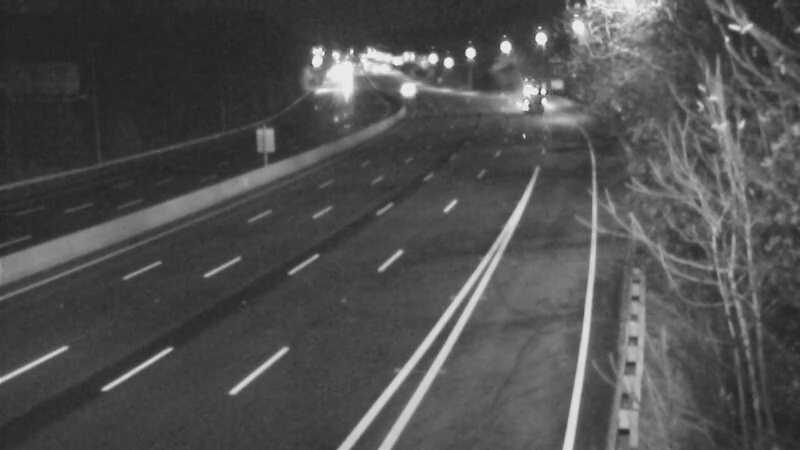vehicle: (379, 62, 429, 112), (501, 74, 551, 124)
